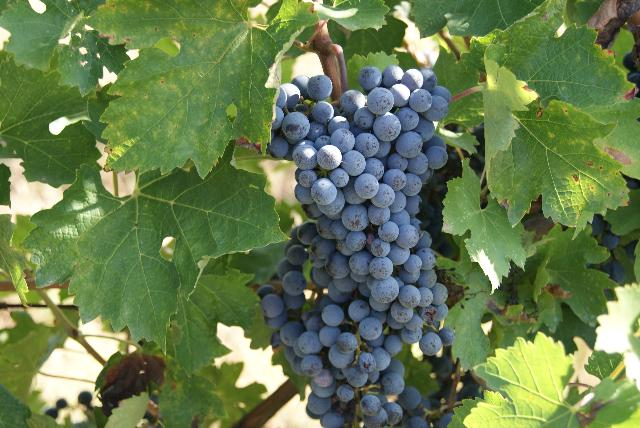grapes: (269, 65, 450, 339)
